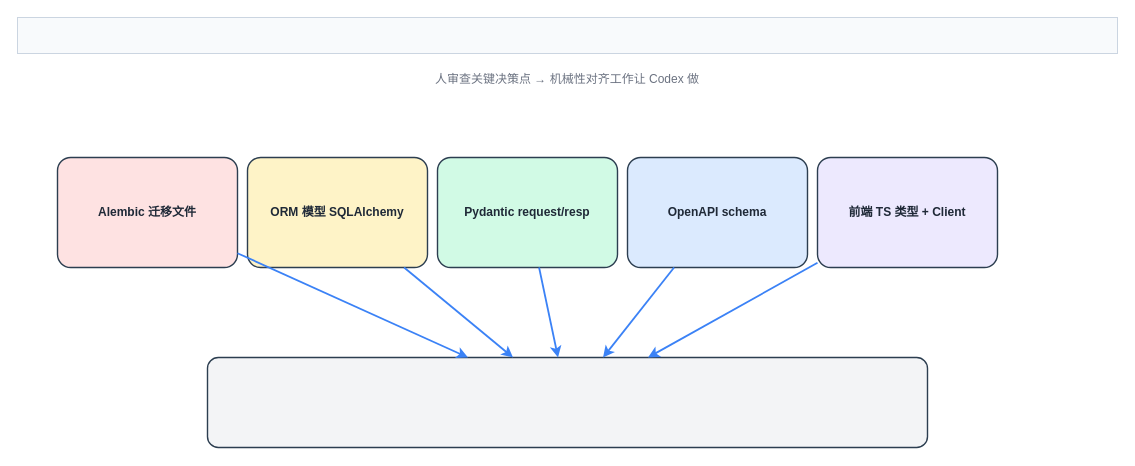
Image size: 1135x466. Some labels were removed from this diagram. Here are the shapes that lost their labels. From the top down, the centre of each, then its label:
At (x=567, y=35): "图 11-3 跨层一致性检查：Codex 把分散契约放进同一窗口".
At (x=567, y=402): "Codex 上下文：同一窗口阅读所有层 → 输出漂移点 + 修复方案".
